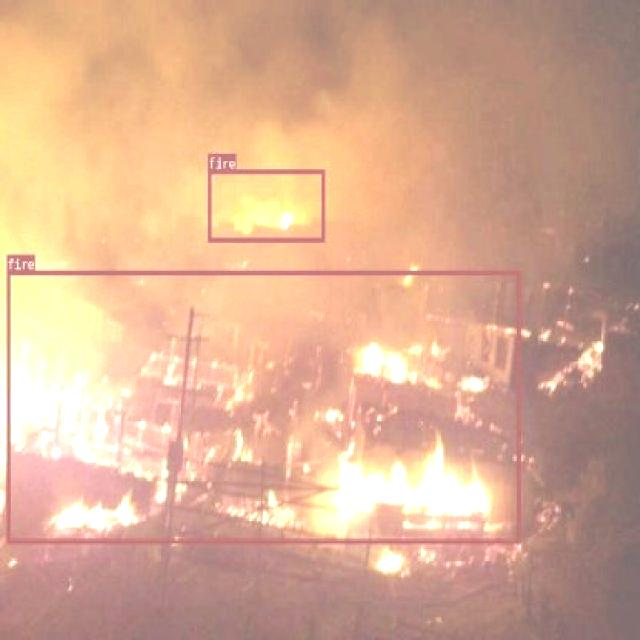fire: (7, 270, 520, 542), (208, 168, 324, 241)
